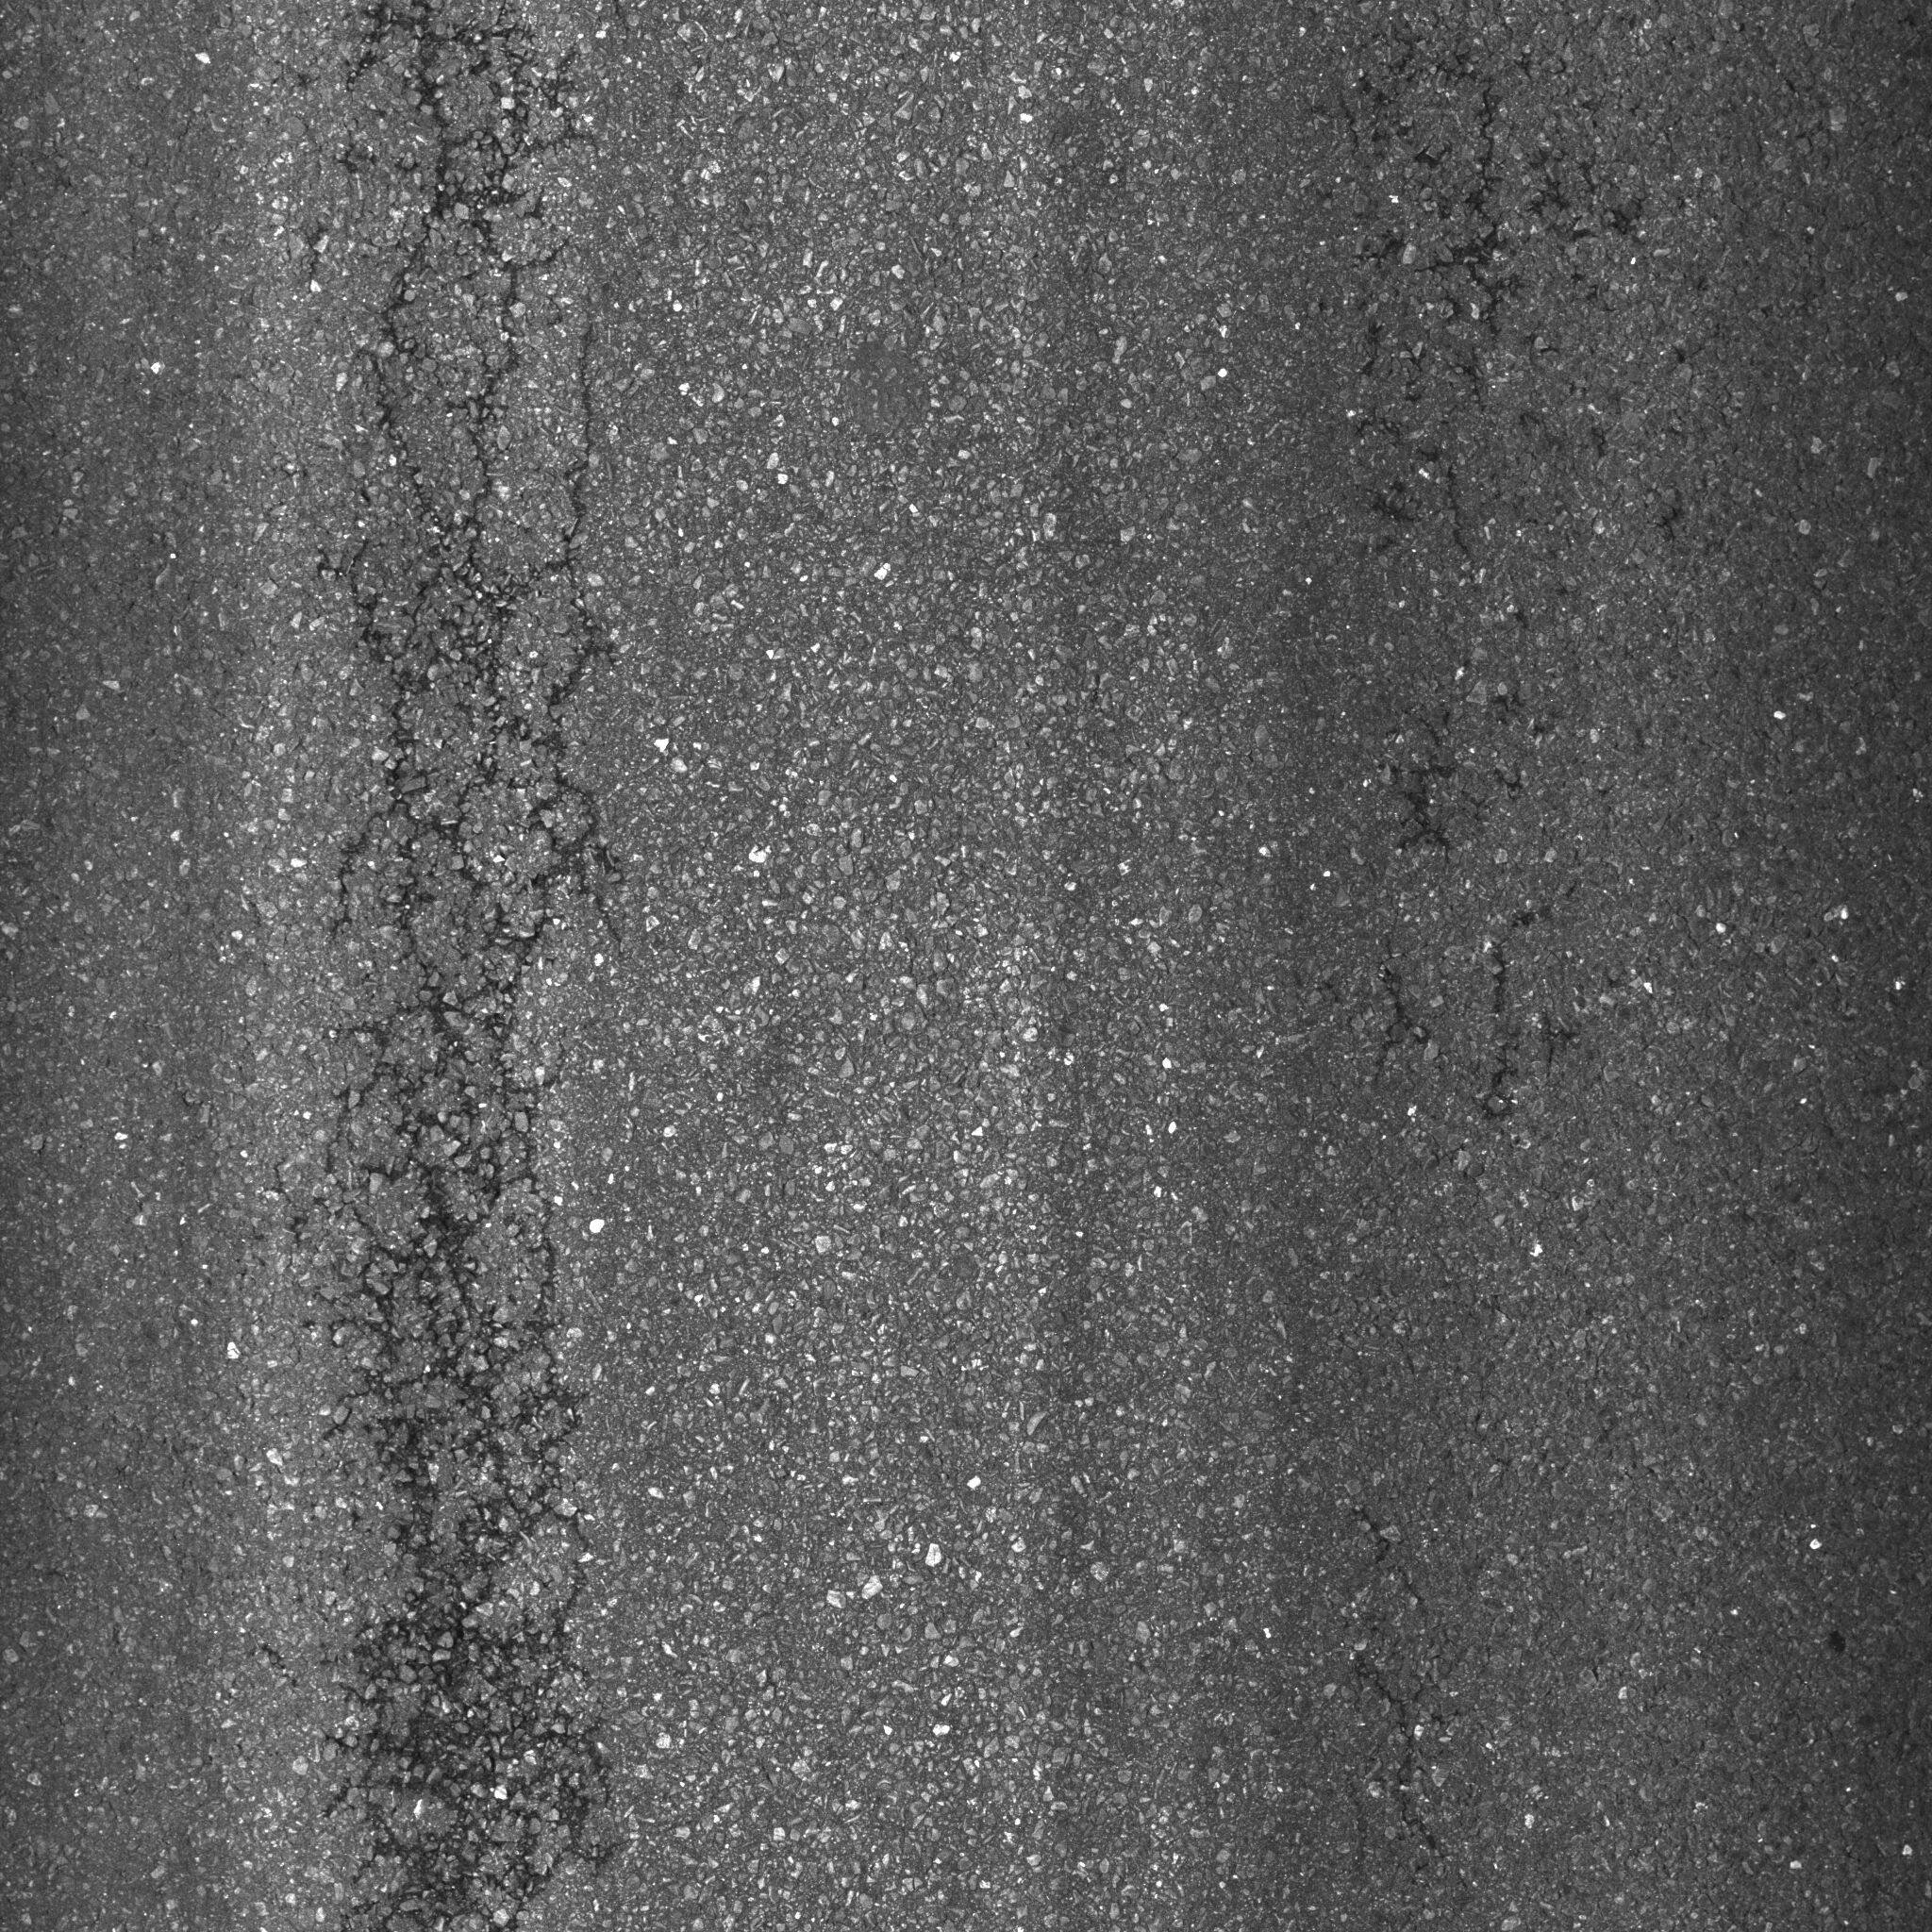alligator: (218, 12, 771, 1932)
